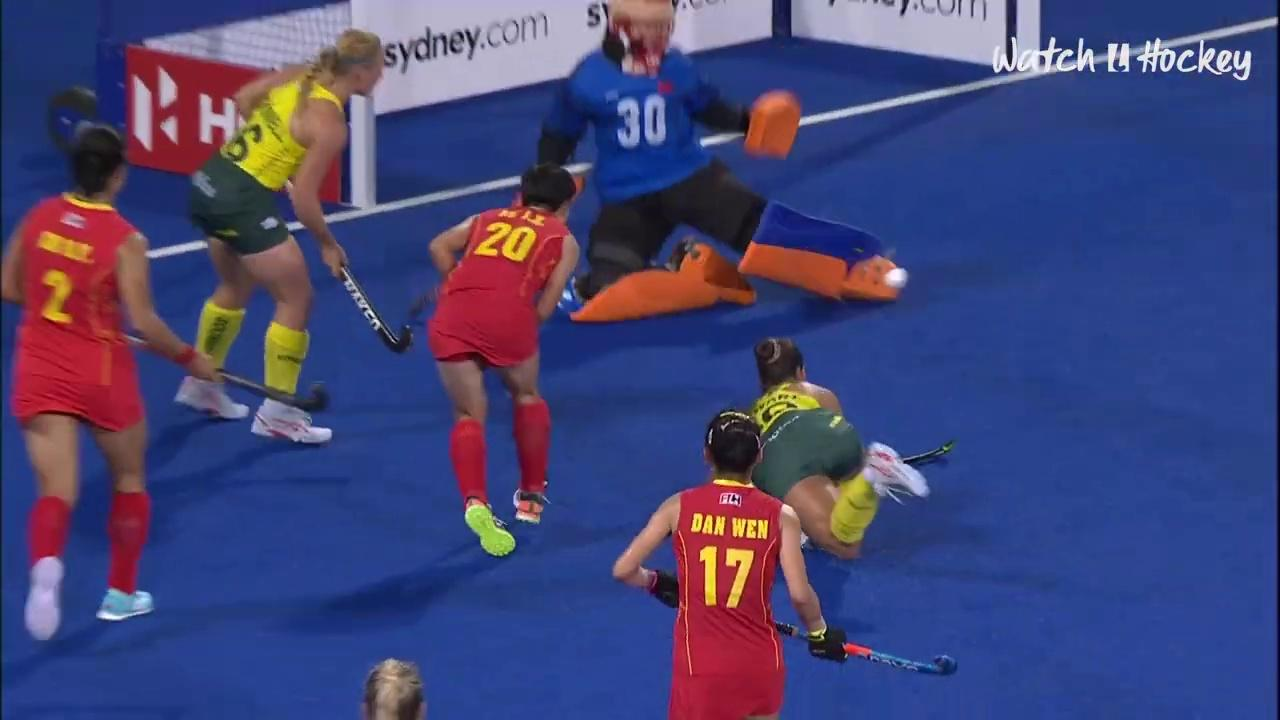ball: (880, 257, 917, 299)
